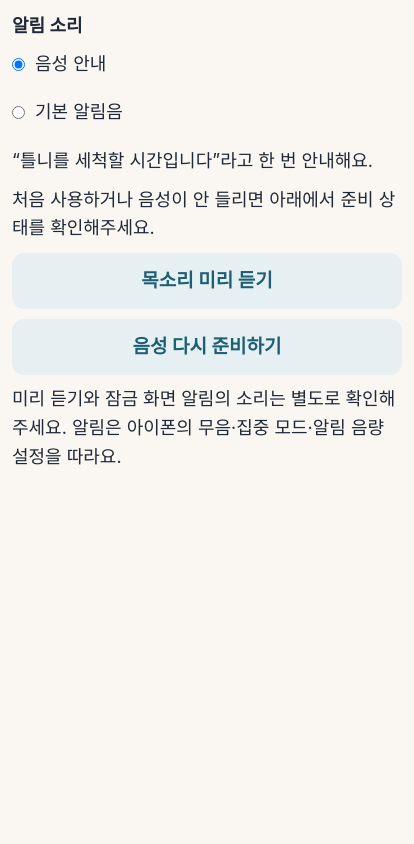
한국어 음성 없음은 이유를 안내하고 기본음 선택으로 전환할 수 있다
Click the button "음성 다시 준비하기" at coordinates (207, 347), box top-left (12, 319), bottom-right (402, 375)
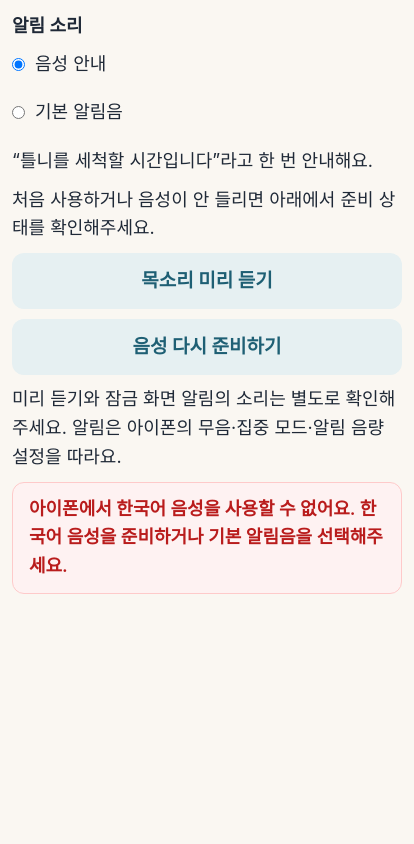
Expected: the message "아이폰에서 한국어 음성을 사용할 수 없어요. 한국어 음성을 준비하거나 기본 알림음을 선택해주세요." is shown, top-left (12, 482), bottom-right (402, 594)
Click the radio button labelled "기본 알림음" at coordinates (18, 113), box top-left (12, 106), bottom-right (25, 119)
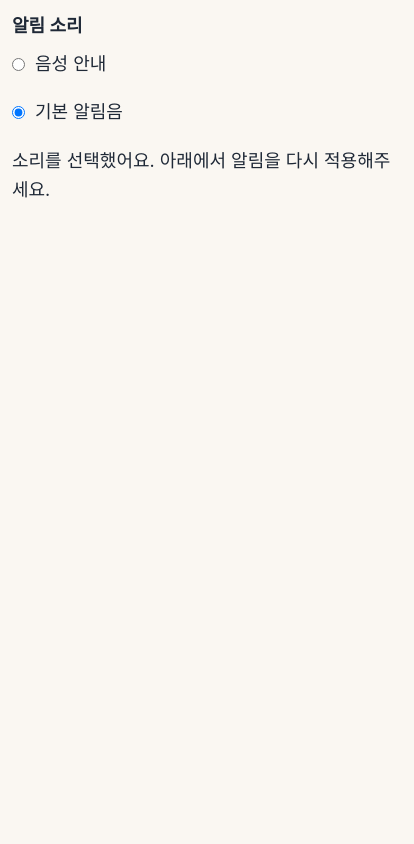
Expected: the message "처음 사용하거나 음성이 안 들리면 아래에서 준비 상태를 확인해주세요." is gone
